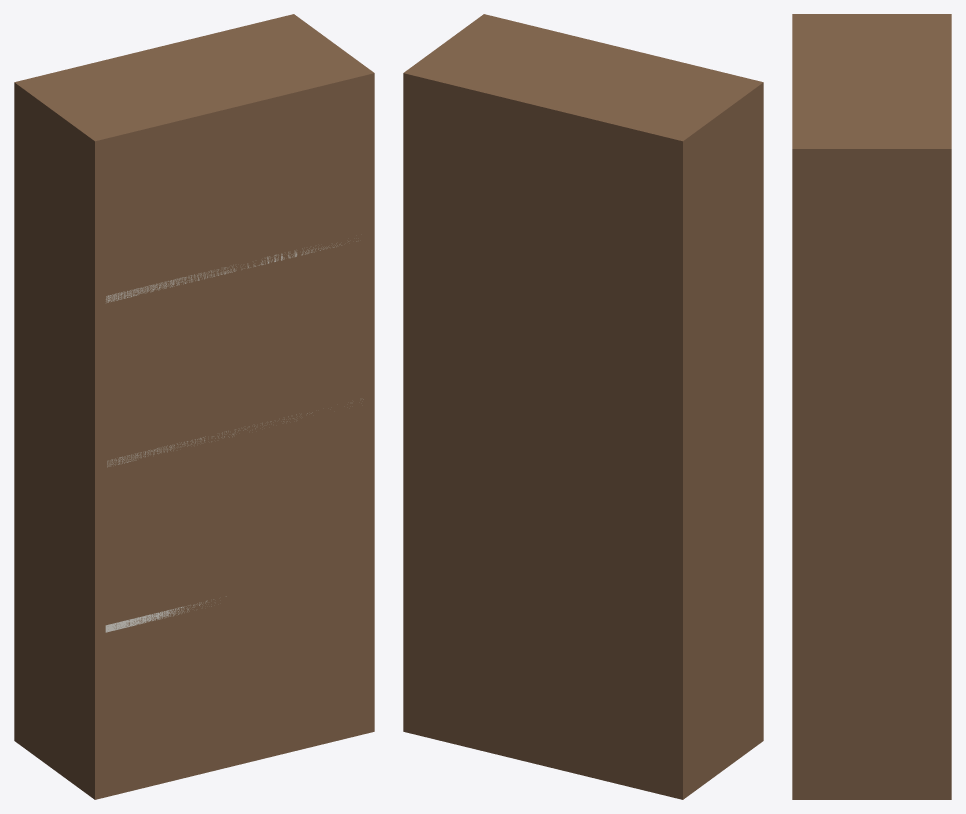
File: storage.glb
The picture shows the model from 3 angles, left to right: view 1: azimuth 30°, elevation 25°; view 2: azimuth 150°, elevation 25°; view 3: azimuth 270°, elevation 25°; orthographic projection.
Parts seen in each view (by area): view 1: storage; view 2: storage; view 3: storage.
Boxes of the visible parts, left/top/right/bottom form: storage: left=14, top=14, right=374, bottom=799; storage: left=403, top=14, right=763, bottom=799; storage: left=792, top=14, right=951, bottom=799.
Bounding box in the file's own units: 0.8 × 1.8 × 0.4.
